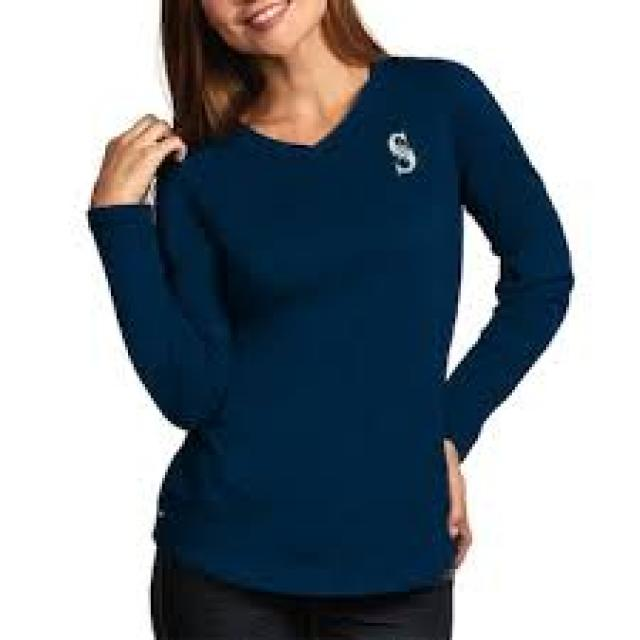plain: (58, 67, 585, 598)
